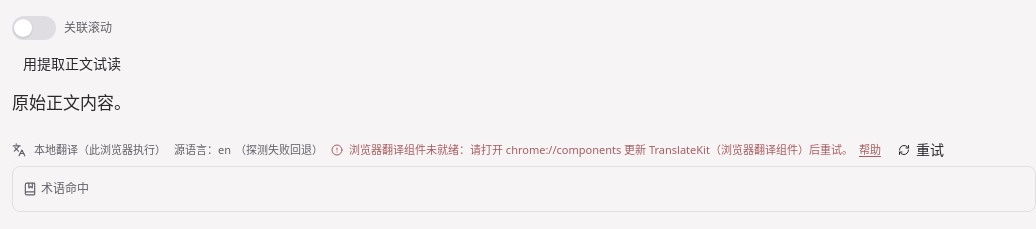
Test case: ReaderTranslation 本地引擎 › G4：点击重试 → 第二次 create（新 user activation 路径），成功后显示译文
This screenshot has width=1036, height=229.
Check: the text "chrome://components" is shown, box top-left (349, 142), bottom-right (853, 157)
Click the button "重试" at (921, 150), box top-left (887, 134), bottom-right (955, 166)
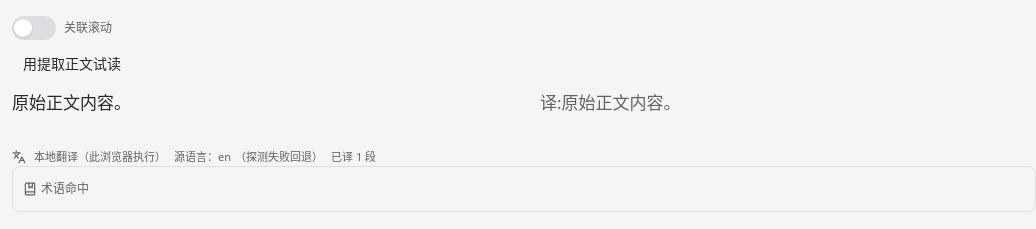
Check: the text "已译 1 段" is shown, box top-left (331, 148), bottom-right (376, 166)
